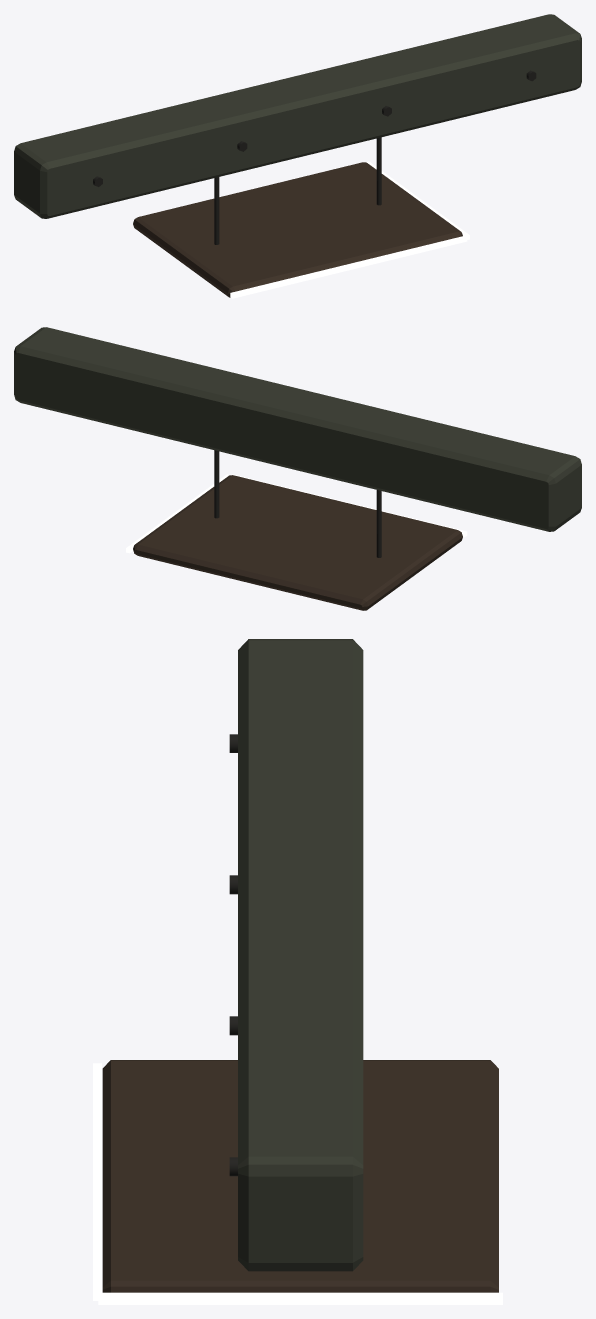
File: beam-board.glb
The picture shows the model from 3 angles, top to bottom: view 1: azimuth 30°, elevation 25°; view 2: azimuth 150°, elevation 25°; view 3: azimuth 270°, elevation 25°; orthographic projection. The views are drawn at different scales.
Visible parts, largest first — view 1: beam-board-00, beam-board-09, beam-board-11, beam-board-07, beam-board-05; view 2: beam-board-00, beam-board-09, beam-board-07, beam-board-05, beam-board-12; view 3: beam-board-00, beam-board-09, beam-board-12, beam-board-11.
Boxes of the visible parts, <box> form: beam-board-00: <box>14,14,581,218</box>; beam-board-09: <box>133,162,462,297</box>; beam-board-11: <box>230,235,467,298</box>; beam-board-07: <box>376,137,381,205</box>; beam-board-05: <box>214,177,219,244</box>; beam-board-00: <box>14,327,581,531</box>; beam-board-09: <box>133,475,462,610</box>; beam-board-07: <box>214,450,219,518</box>; beam-board-05: <box>376,490,381,557</box>; beam-board-12: <box>126,474,230,553</box>; beam-board-00: <box>238,639,363,1271</box>; beam-board-09: <box>102,1060,498,1292</box>; beam-board-12: <box>98,1292,502,1304</box>; beam-board-11: <box>93,1063,101,1300</box>.
Size of the model in its own units: 1.38 by 0.3597 by 0.4522.
